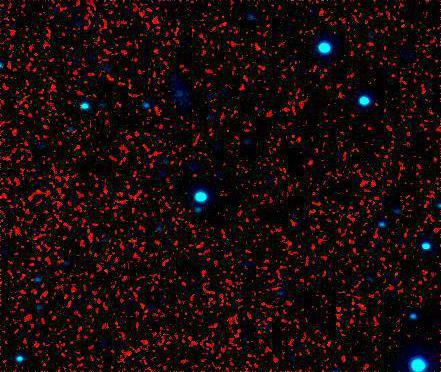star: (66, 312, 96, 342)
